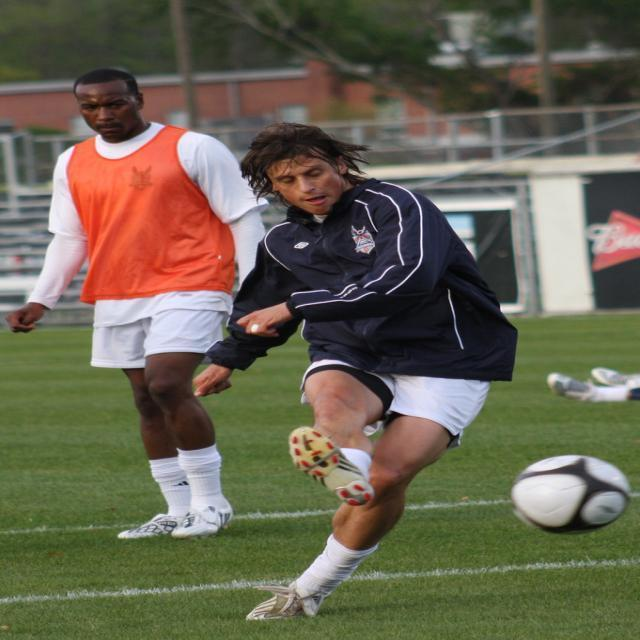ball: (509, 451, 631, 532)
